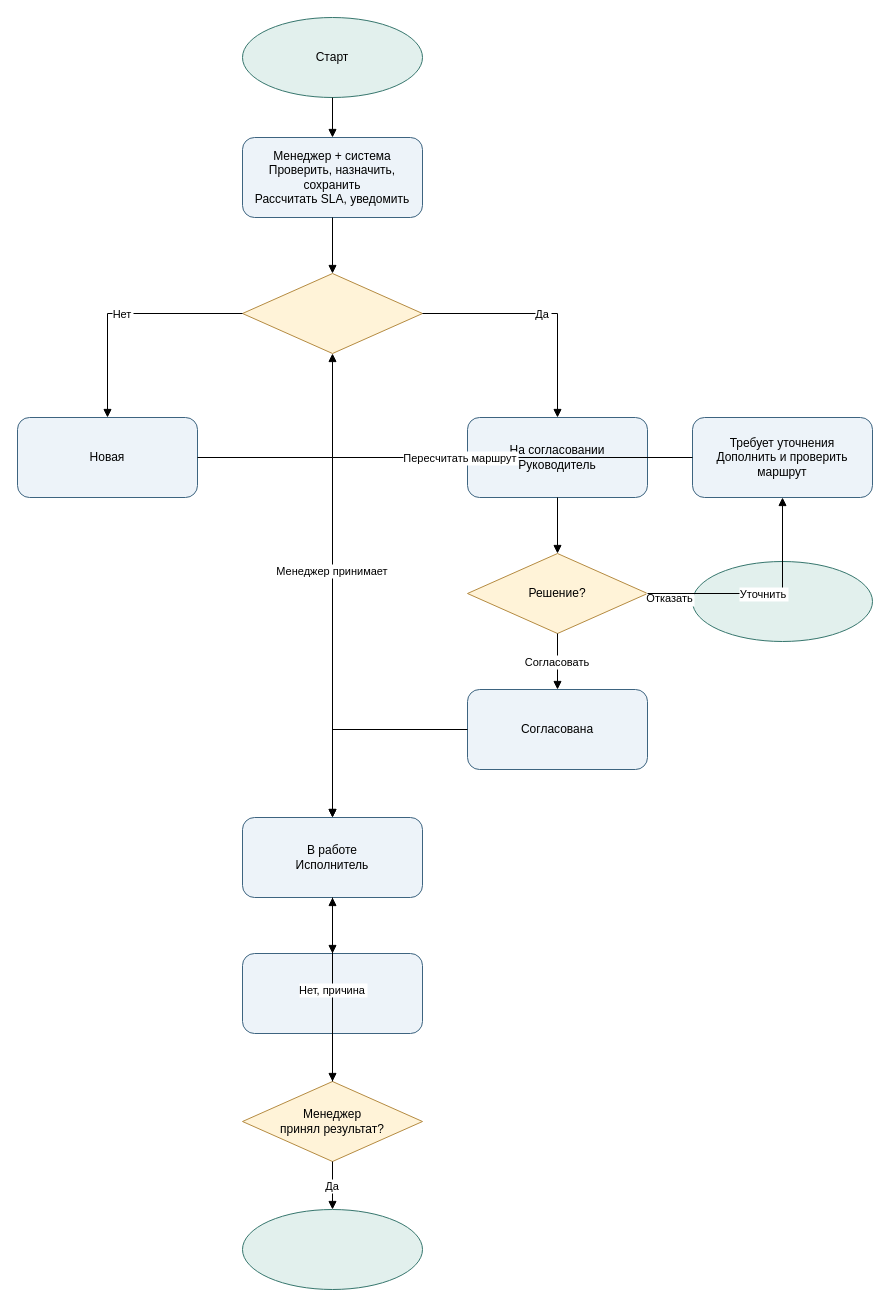
Image size: 890x1307. Some labels were removed from this diagram. Each missing label, with the box of its shape:
Выполнена Результат исполнения: (242, 952, 422, 1034)
Высокий приоритет или согласуемая категория?: (242, 272, 422, 354)
Закрыта Установить closed_at: (242, 1208, 422, 1290)
Отклонена Причина отказа: (692, 560, 872, 642)
